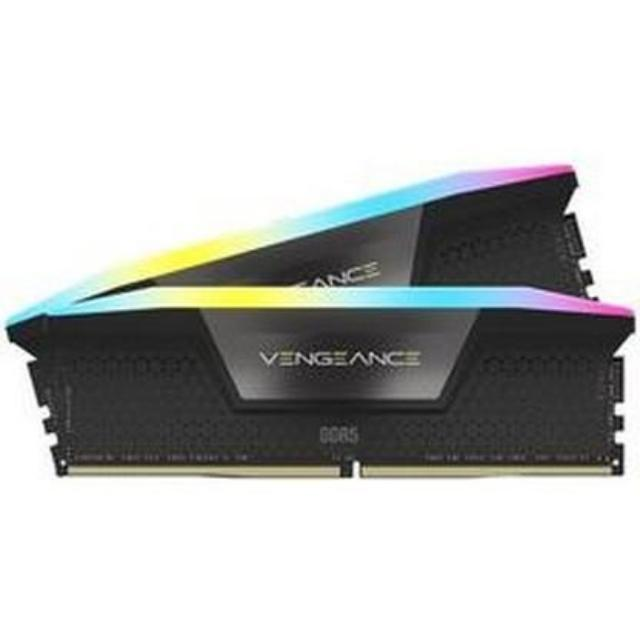RAM: (0, 157, 635, 491)
